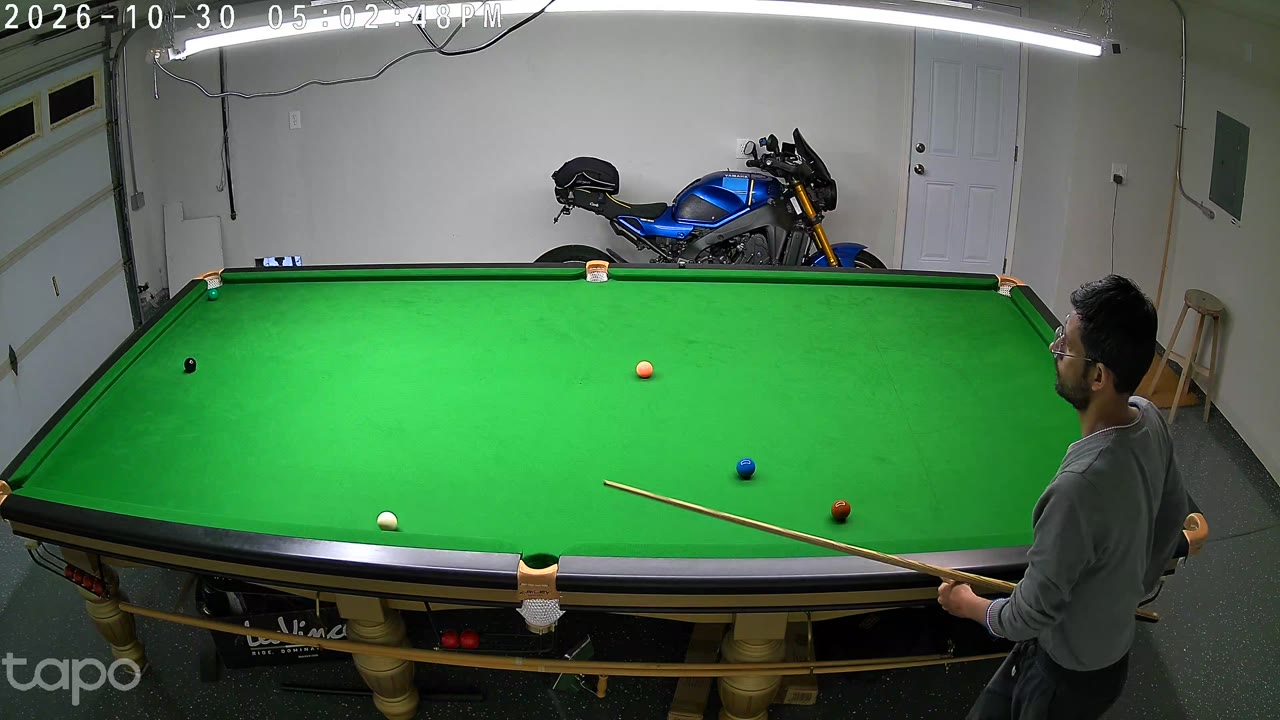black: (184, 356, 196, 375)
blue: (736, 455, 756, 485)
brown: (831, 497, 852, 527)
green: (208, 286, 219, 303)
pink: (636, 360, 653, 381)
white: (376, 508, 399, 539)
